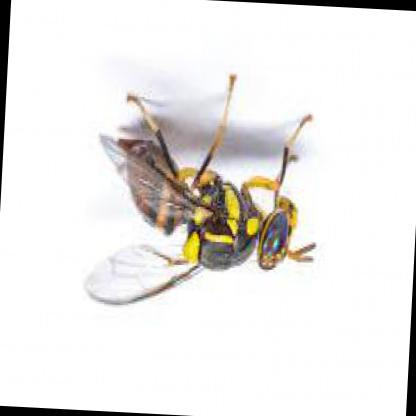fruit fly: (83, 77, 315, 305)
